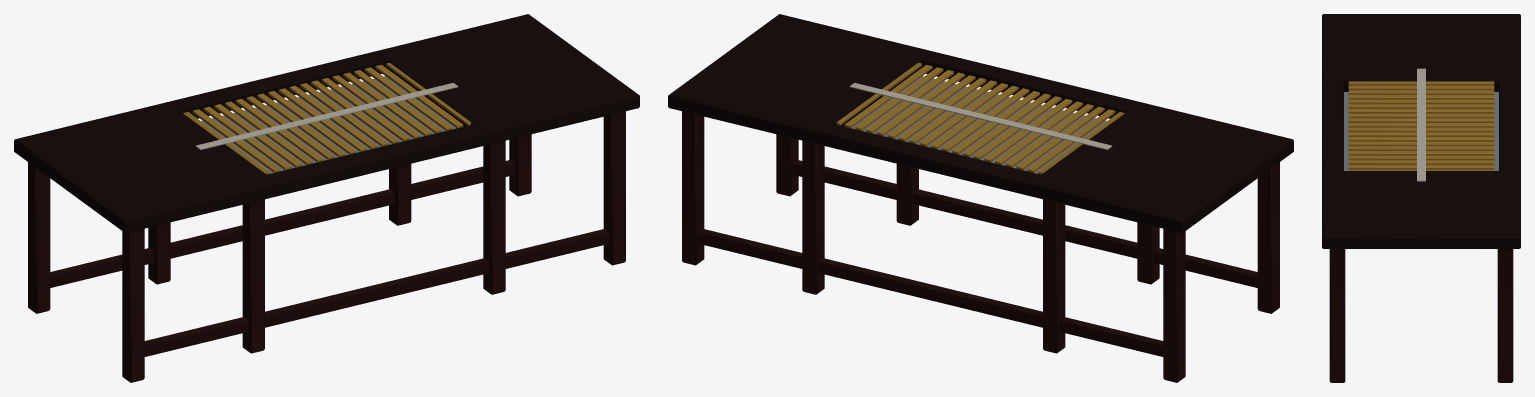
File: tea-kungfu-table.glb
3 renders of one model, left to right at view 1: azimuth 30°, elevation 25°; view 2: azimuth 150°, elevation 25°; view 3: azimuth 270°, elevation 25°, orthographic. The views are drawn at different scales.
Visible parts, largest first — view 1: body__wood, grate__bamboo, well__steel, inlay__marble; view 2: body__wood, grate__bamboo, well__steel, inlay__marble; view 3: body__wood, grate__bamboo, inlay__marble, well__steel.
Part boxes in pixels (x1,y1,x2,y2): body__wood: [14, 14, 639, 382]; grate__bamboo: [183, 62, 471, 174]; well__steel: [201, 76, 456, 173]; inlay__marble: [195, 82, 458, 149]; body__wood: [668, 14, 1293, 382]; grate__bamboo: [836, 62, 1124, 174]; well__steel: [851, 76, 1106, 173]; inlay__marble: [849, 82, 1112, 149]; body__wood: [1322, 14, 1520, 382]; grate__bamboo: [1348, 81, 1494, 170]; inlay__marble: [1417, 68, 1425, 181]; well__steel: [1344, 92, 1498, 170].
Size of the model in its own units: 2.4 by 0.754 by 0.9.
